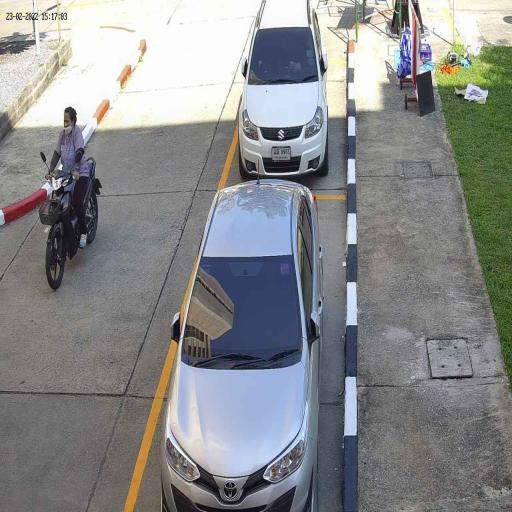car: (158, 178, 325, 512), (236, 0, 330, 179)
motorcycle: (39, 166, 102, 292)
